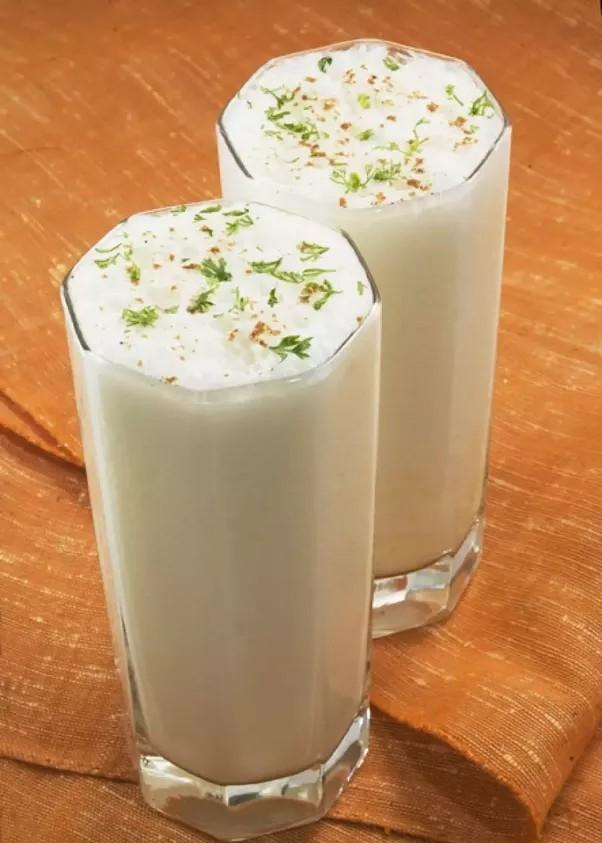Lassi: (61, 199, 379, 782), (215, 41, 510, 578)
